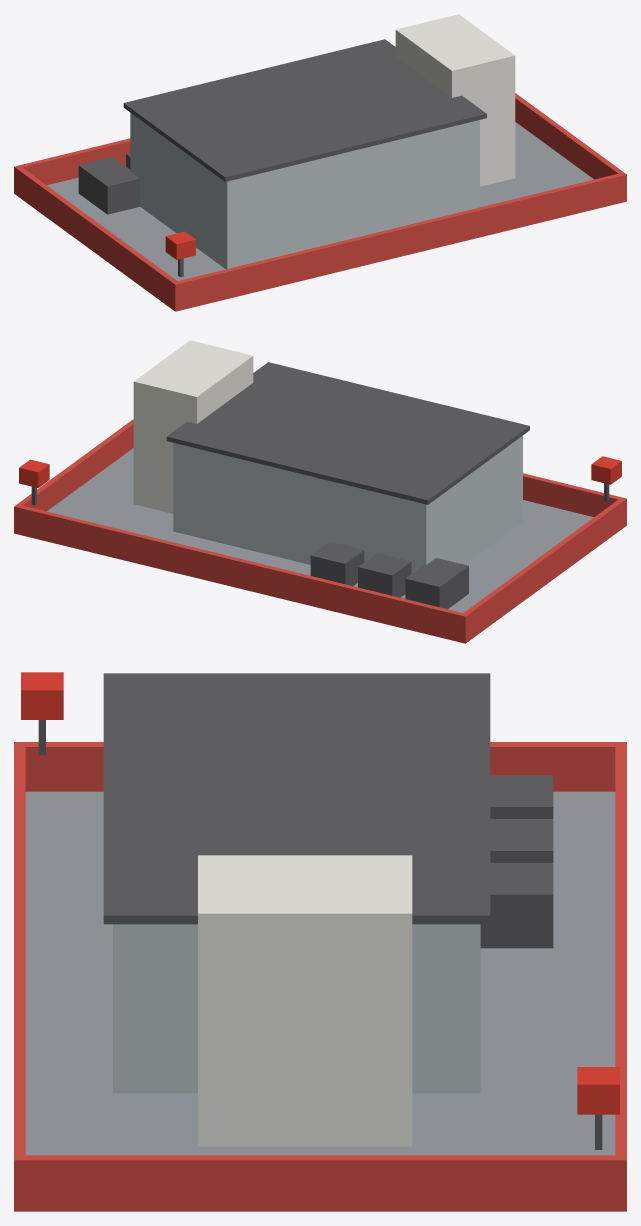
File: crown_plant.glb
The picture shows the model from 3 angles, top to bottom: view 1: azimuth 30°, elevation 25°; view 2: azimuth 150°, elevation 25°; view 3: azimuth 270°, elevation 25°; orthographic projection. The views are drawn at different scales.
Parts seen in each view (by area): view 1: crown_plant; view 2: crown_plant; view 3: crown_plant.
Boxes of the visible parts, bbox=[...] form: crown_plant: bbox=[14, 14, 626, 311]; crown_plant: bbox=[14, 340, 626, 643]; crown_plant: bbox=[14, 672, 626, 1211].
Bounding box in the file's own units: 21 × 5.6 × 13.
